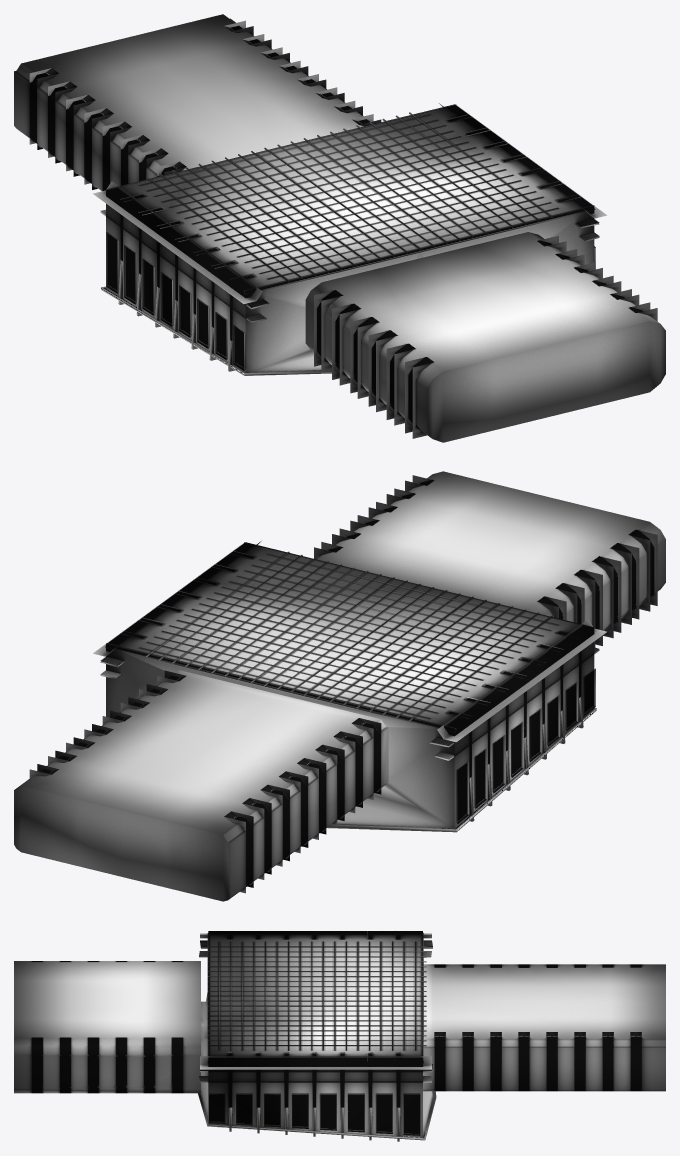
Rendered from hangar.obj.
The picture shows the model from 3 angles, top to bottom: view 1: azimuth 30°, elevation 25°; view 2: azimuth 150°, elevation 25°; view 3: azimuth 270°, elevation 25°; orthographic projection. The views are drawn at different scales.
Parts seen in each view (by area): view 1: VSDI_Hangar; view 2: VSDI_Hangar; view 3: VSDI_Hangar.
Boxes of the visible parts, x1=… form: VSDI_Hangar: x1=14, y1=14, x2=665, y2=442; VSDI_Hangar: x1=14, y1=471, x2=665, y2=901; VSDI_Hangar: x1=14, y1=931, x2=665, y2=1141.
Bounding box in the file's own units: 138 × 49.28 × 279.
